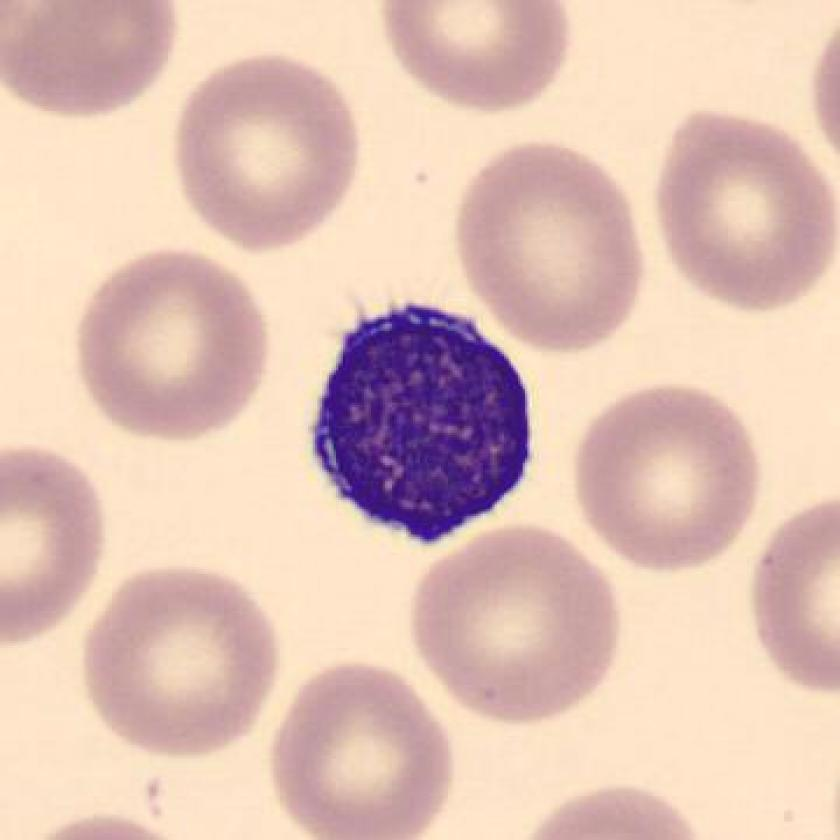lymphocyte: (300, 286, 552, 556)
